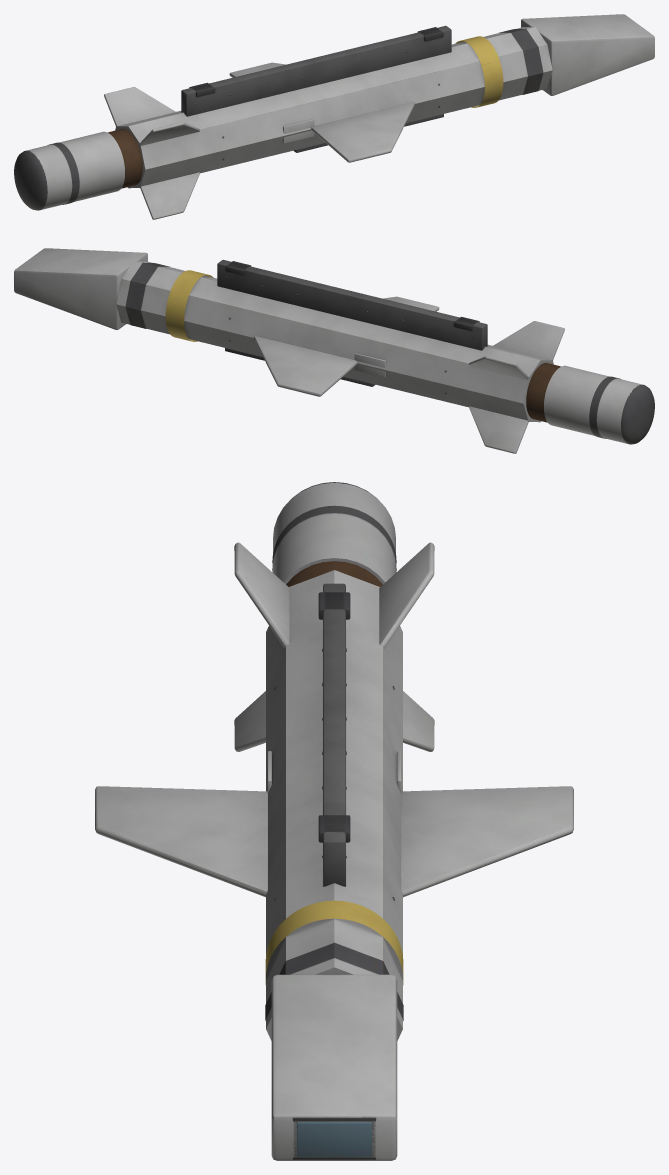
File: aam_3.glb
3 renders of one model, top to bottom at view 1: azimuth 30°, elevation 25°; view 2: azimuth 150°, elevation 25°; view 3: azimuth 270°, elevation 25°, orthographic. The views are drawn at different scales.
Visible parts, largest first — view 1: aam_3; view 2: aam_3; view 3: aam_3.
Boxes of the visible parts, x1=… form: aam_3: x1=14, y1=14, x2=654, y2=219; aam_3: x1=14, y1=248, x2=654, y2=453; aam_3: x1=95, y1=482, x2=573, y2=1160.
Bounding box in the file's own units: 1 × 0.1502 × 0.336.
8 materials, 8 textured.
